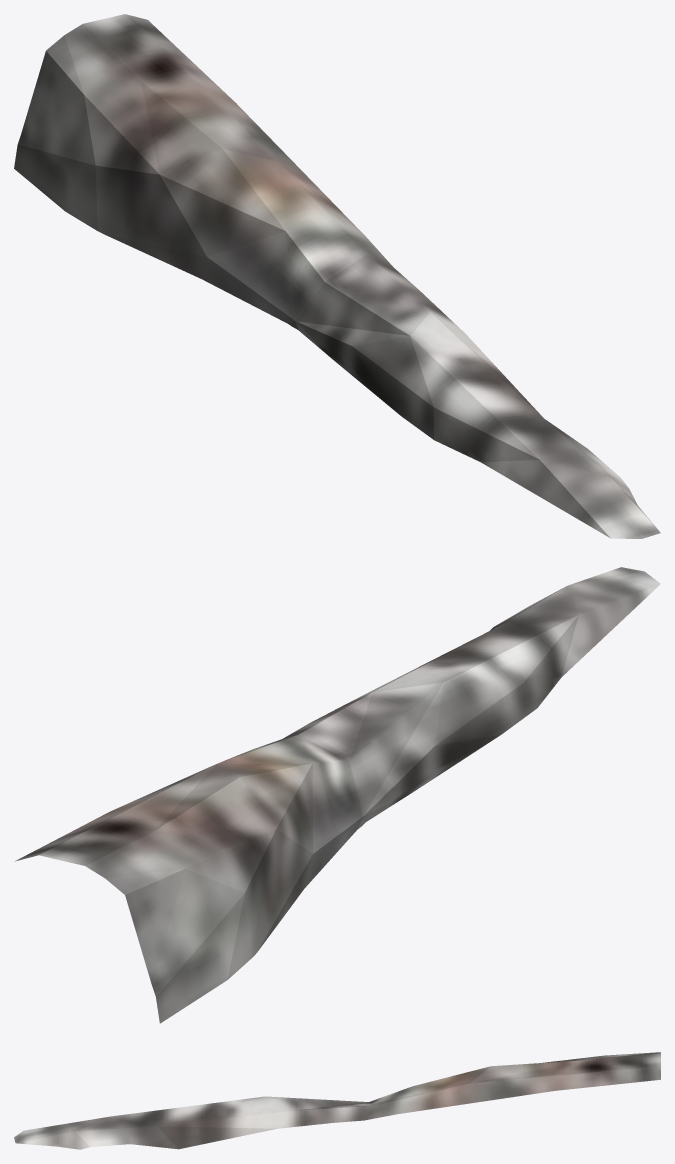
3 renders of one model, top to bottom at view 1: azimuth 30°, elevation 25°; view 2: azimuth 150°, elevation 25°; view 3: azimuth 270°, elevation 25°, orthographic. The views are drawn at different scales.
Bounding box in the file's own units: 0.1385 × 0.1217 × 0.9241.
1 material, 1 textured.
